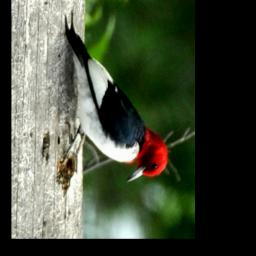Woodpecker: (65, 14, 168, 184)
